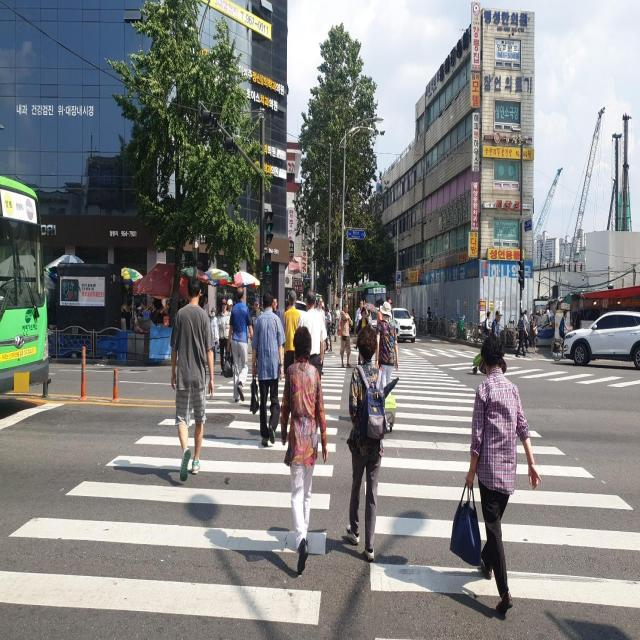초록불: (264, 251, 272, 287)
횡단보도: (0, 342, 640, 640)
